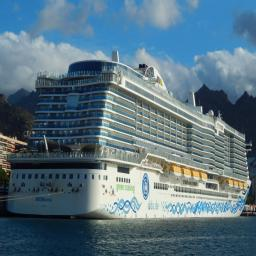cruises: (5, 50, 253, 225)
